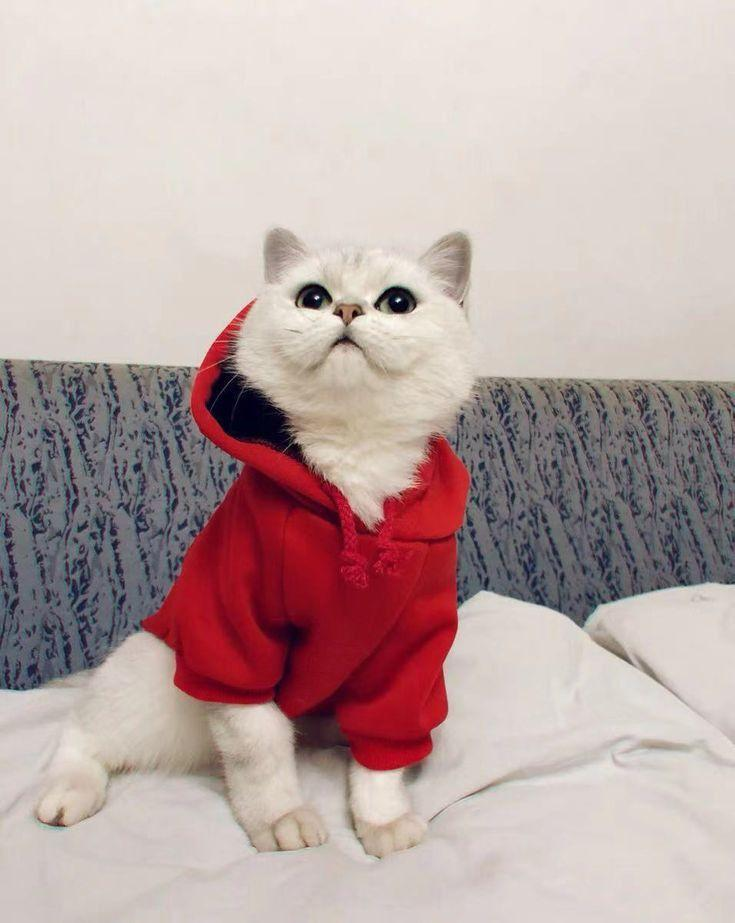kedo: (40, 227, 471, 859)
